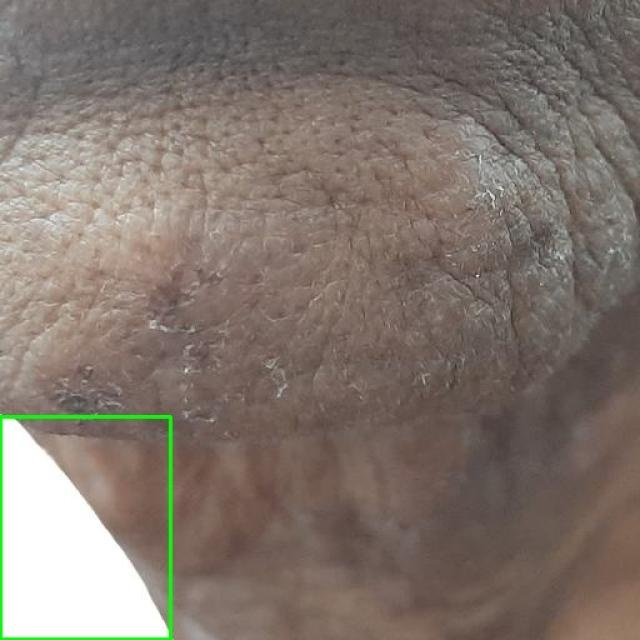Eczema: (0, 416, 170, 639)
